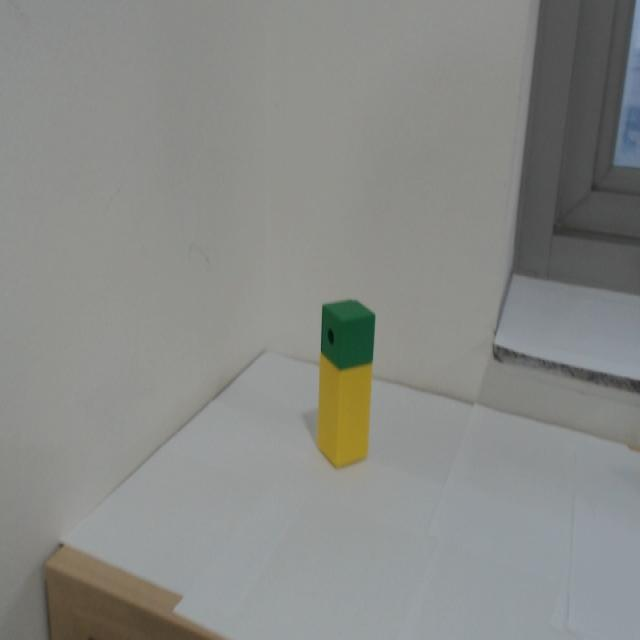cube: (319, 294, 378, 375)
